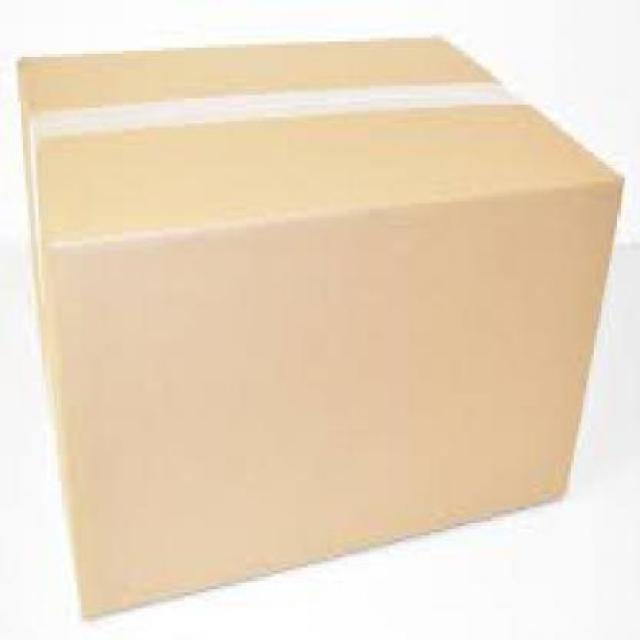cardboard: (15, 32, 622, 618)
